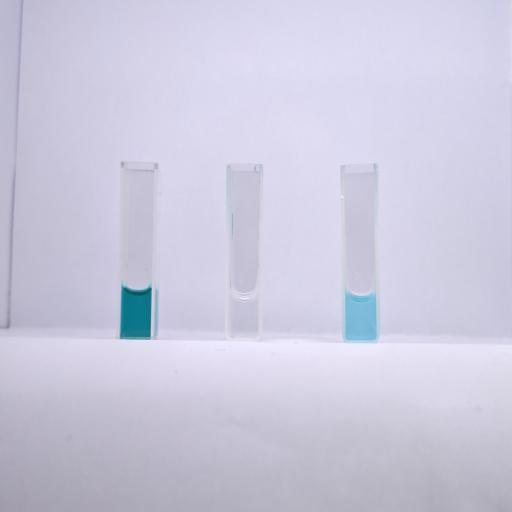cuvette: (114, 160, 160, 340), (340, 162, 382, 344), (224, 163, 264, 343)
liquid: (122, 288, 152, 336), (345, 293, 376, 339), (230, 292, 258, 338)
